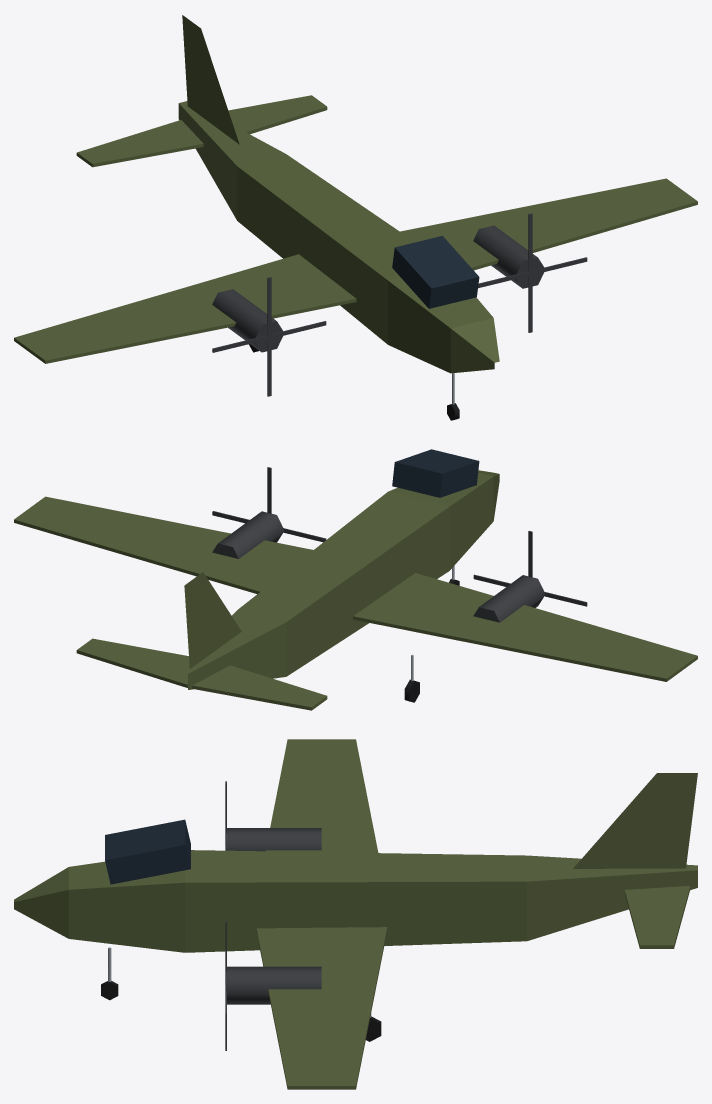
Rendered from veh_air_airliner_a06_lod2.glb.
3 views of the same model, one above another, from view 1: azimuth 30°, elevation 25°; view 2: azimuth 150°, elevation 25°; view 3: azimuth 270°, elevation 25° (orthographic). The views are drawn at different scales.
Visible parts, largest first — view 1: body, propeller_0, propeller_1; view 2: body, propeller_0, propeller_1; view 3: body.
Boxes of the visible parts, x1,y1,x2,y2 form: body: [14, 15, 697, 373]; propeller_0: [212, 277, 326, 396]; propeller_1: [478, 213, 587, 332]; body: [14, 449, 697, 710]; propeller_0: [473, 531, 587, 606]; propeller_1: [212, 467, 326, 542]; body: [14, 739, 697, 1089].
Bounding box in the file's own units: 24.72 × 7.53 × 20.6.
